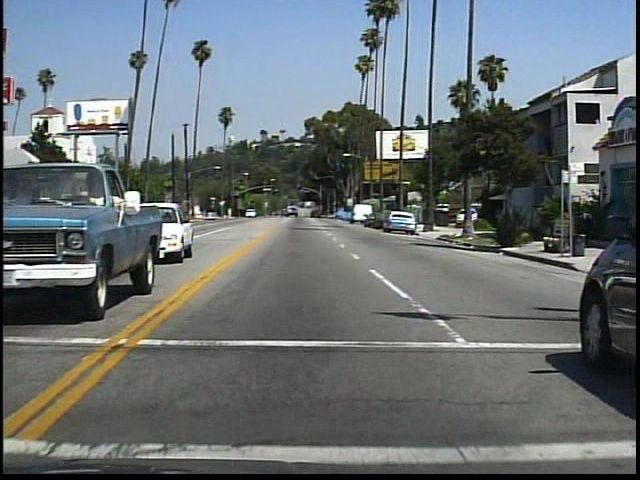person: (508, 198, 532, 250)
